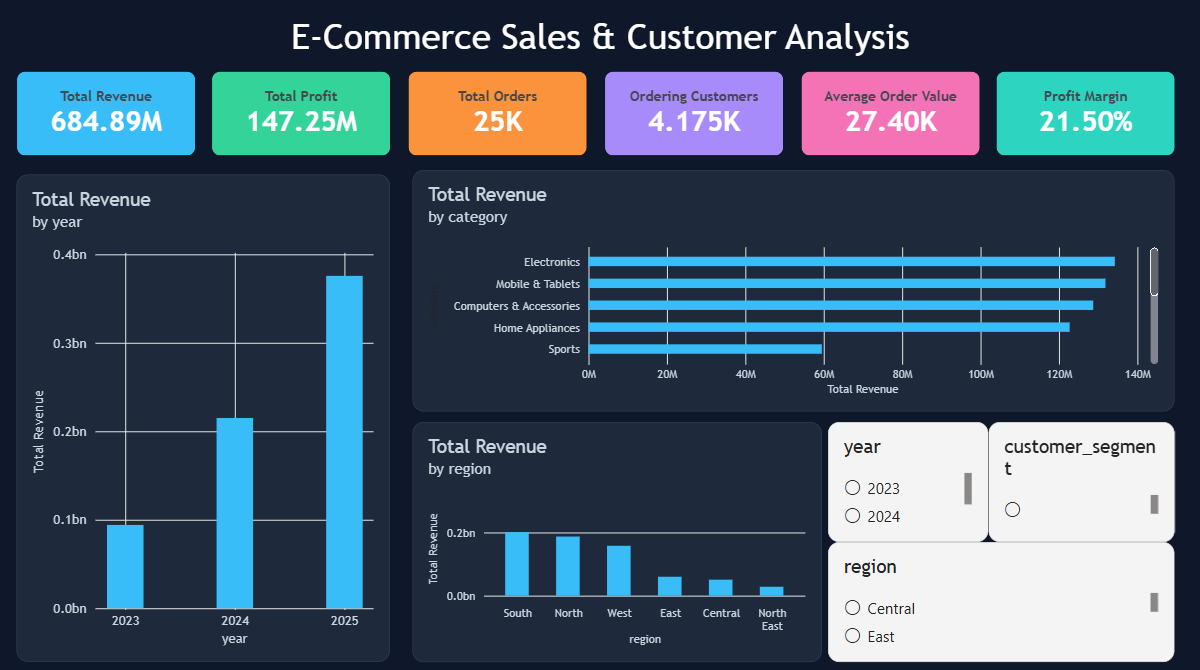

The dashboard page shown, as its layout file describes it:
{"tool":"powerbi","page":{"name":"Page 1","canvas":[1280,720],"ordinal":0},"visuals":[{"type":"textbox","box":[0,20,1280,70],"z":0},{"type":"cardVisual","fields":{"Data":["orders.Total Revenue"]},"box":[20,80,190,90],"z":1000},{"type":"cardVisual","fields":{"Data":["orders.Total Profit"]},"box":[228,80,190,90],"z":2000},{"type":"cardVisual","fields":{"Data":["orders.Total Orders"]},"box":[436,80,190,90],"z":3000},{"type":"cardVisual","fields":{"Data":["orders.Ordering Customers"]},"box":[644,80,190,90],"z":4000},{"type":"cardVisual","fields":{"Data":["orders.Average Order Value"]},"box":[852,80,190,90],"z":5000},{"type":"cardVisual","fields":{"Data":["orders.Profit Margin"]},"box":[1060,80,190,90],"z":6000},{"type":"clusteredColumnChart","fields":{"Category":["dates.year"],"Y":["orders.Total Revenue"]},"box":[20.7,189.3,396.1,516.9],"z":7000},{"type":"clusteredBarChart","fields":{"Category":["products.category"],"Y":["orders.Total Revenue"]},"box":[440.6,184.5,808,256.1],"z":8000},{"type":"clusteredColumnChart","fields":{"Category":["locations.region"],"Y":["orders.Total Revenue"]},"box":[440.6,451.7,434.2,254.5],"z":9000},{"type":"listSlicer","fields":{"Values":["dates.year"]},"box":[881.2,451.7,170.2,127.2],"z":10000},{"type":"listSlicer","fields":{"Values":["customers.customer_segment"]},"box":[1051.4,451.7,197.2,127.2],"z":10001},{"type":"listSlicer","fields":{"Values":["locations.region"]},"box":[881.2,579,367.4,127.2],"z":10002}]}

Visuals, with their boxes in screenshot pixels (x1, y1, x2, y2), scaled from the page's 1280x720 canvas onto the 1200x670 screenshot:
textbox: (0,19,1199,84)
cardVisual - orders.Total Revenue: (19,74,197,158)
cardVisual - orders.Total Profit: (214,74,392,158)
cardVisual - orders.Total Orders: (409,74,587,158)
cardVisual - orders.Ordering Customers: (604,74,782,158)
cardVisual - orders.Average Order Value: (799,74,977,158)
cardVisual - orders.Profit Margin: (994,74,1172,158)
clusteredColumnChart - dates.year x orders.Total Revenue: (19,176,391,657)
clusteredBarChart - products.category x orders.Total Revenue: (413,172,1171,410)
clusteredColumnChart - locations.region x orders.Total Revenue: (413,420,820,657)
listSlicer - dates.year: (826,420,986,539)
listSlicer - customers.customer_segment: (986,420,1171,539)
listSlicer - locations.region: (826,539,1171,657)
